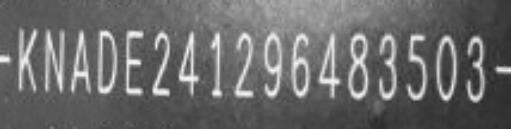letter: (428, 31, 463, 106), (370, 31, 403, 104), (9, 23, 42, 94), (341, 31, 372, 104), (284, 30, 315, 101), (203, 28, 231, 103), (463, 31, 491, 106), (119, 26, 147, 99), (175, 30, 203, 101), (232, 31, 259, 104), (314, 28, 340, 101), (148, 28, 174, 101), (93, 28, 119, 99), (40, 26, 66, 95), (67, 28, 93, 97), (404, 31, 427, 104), (260, 33, 283, 102)
